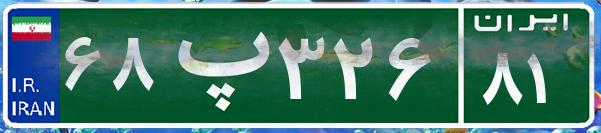1: (525, 38, 570, 115)
2: (330, 28, 385, 110)
3: (273, 28, 330, 110)
6: (385, 28, 445, 110), (57, 26, 110, 107)
8: (475, 38, 525, 113), (110, 28, 158, 105)
پ: (158, 15, 273, 115)
